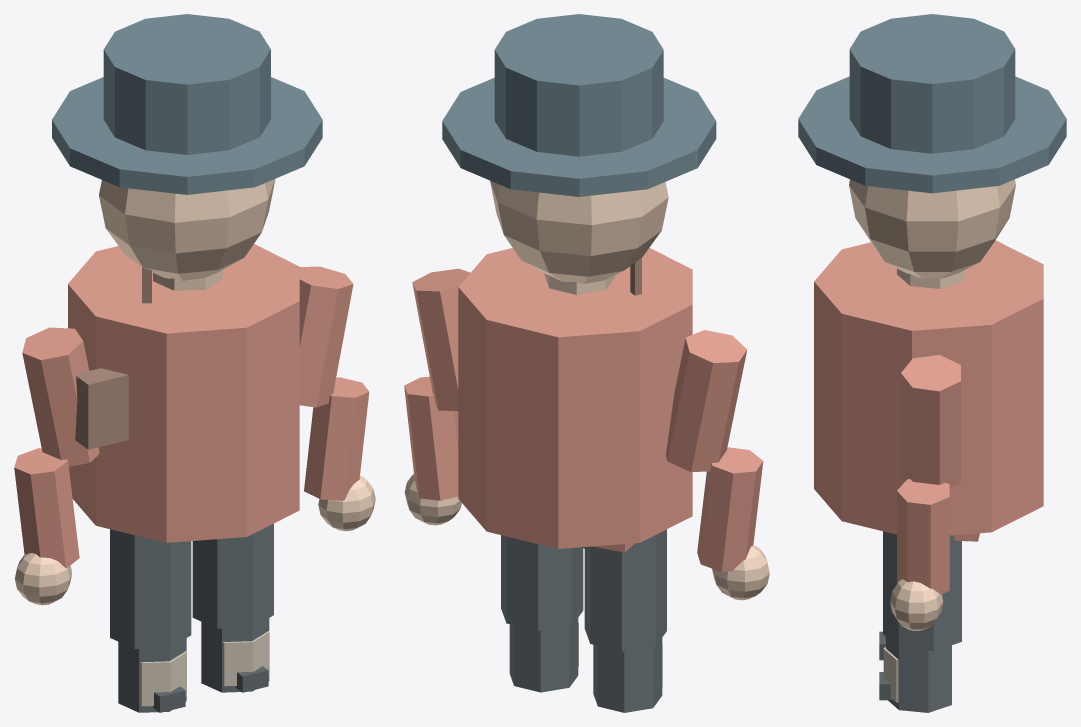
Rendered from char-npc.glb.
3 renders of one model, left to right at view 1: azimuth 30°, elevation 25°; view 2: azimuth 150°, elevation 25°; view 3: azimuth 270°, elevation 25°, orthographic. The views are drawn at different scales.
Visible parts, largest first — view 1: CoatTorso, HatCrown, HatBrim, Head, LegThigh_1, LegThigh_-1, CoatUpperArm_1, CoatUpperArm_-1, CoatLowerArm_-1, CoatLowerArm_1, BagBody, Hand_1 (+8 smaller); view 2: CoatTorso, HatCrown, HatBrim, Head, LegThigh_1, CoatUpperArm_1, LegThigh_-1, CoatLowerArm_1, CoatLowerArm_-1, CoatUpperArm_-1, LegCalf_1, LegCalf_-1 (+3 smaller); view 3: CoatTorso, HatCrown, HatBrim, Head, CoatUpperArm_-1, CoatLowerArm_-1, LegThigh_-1, LegCalf_-1, Hand_-1, Neck, Sock_-1.
Part boxes in pixels (bbox=[...]): CoatTorso: bbox=[68, 244, 299, 542]; HatCrown: bbox=[103, 14, 270, 154]; HatBrim: bbox=[52, 77, 322, 194]; Head: bbox=[99, 178, 275, 280]; LegThigh_1: bbox=[110, 529, 191, 648]; LegThigh_-1: bbox=[192, 523, 273, 628]; CoatUpperArm_1: bbox=[22, 327, 99, 466]; CoatUpperArm_-1: bbox=[299, 266, 353, 407]; CoatLowerArm_-1: bbox=[304, 377, 369, 500]; CoatLowerArm_1: bbox=[14, 448, 79, 568]; BagBody: bbox=[75, 368, 128, 449]; Hand_1: bbox=[15, 553, 72, 605]; CoatTorso: bbox=[458, 248, 692, 548]; HatCrown: bbox=[494, 14, 663, 156]; HatBrim: bbox=[442, 77, 716, 196]; Head: bbox=[490, 180, 668, 283]; LegThigh_1: bbox=[584, 529, 666, 651]; CoatUpperArm_1: bbox=[666, 330, 747, 472]; LegThigh_-1: bbox=[501, 535, 583, 631]; CoatLowerArm_1: bbox=[697, 447, 763, 571]; CoatLowerArm_-1: bbox=[404, 376, 458, 500]; CoatUpperArm_-1: bbox=[412, 268, 470, 411]; LegCalf_1: bbox=[593, 638, 662, 712]; LegCalf_-1: bbox=[509, 618, 578, 692]; CoatTorso: bbox=[814, 240, 1043, 535]; HatCrown: bbox=[849, 14, 1015, 153]; HatBrim: bbox=[798, 76, 1066, 193]; Head: bbox=[849, 179, 1015, 278]; CoatUpperArm_-1: bbox=[901, 355, 960, 487]; CoatLowerArm_-1: bbox=[897, 479, 949, 594]; LegThigh_-1: bbox=[883, 531, 961, 651]; LegCalf_-1: bbox=[886, 637, 951, 712]; Hand_-1: bbox=[890, 579, 943, 630]; Neck: bbox=[897, 268, 964, 288]; Sock_-1: bbox=[883, 647, 898, 702].
Size of the model in its own units: 1.02 by 1.76 by 0.68.
